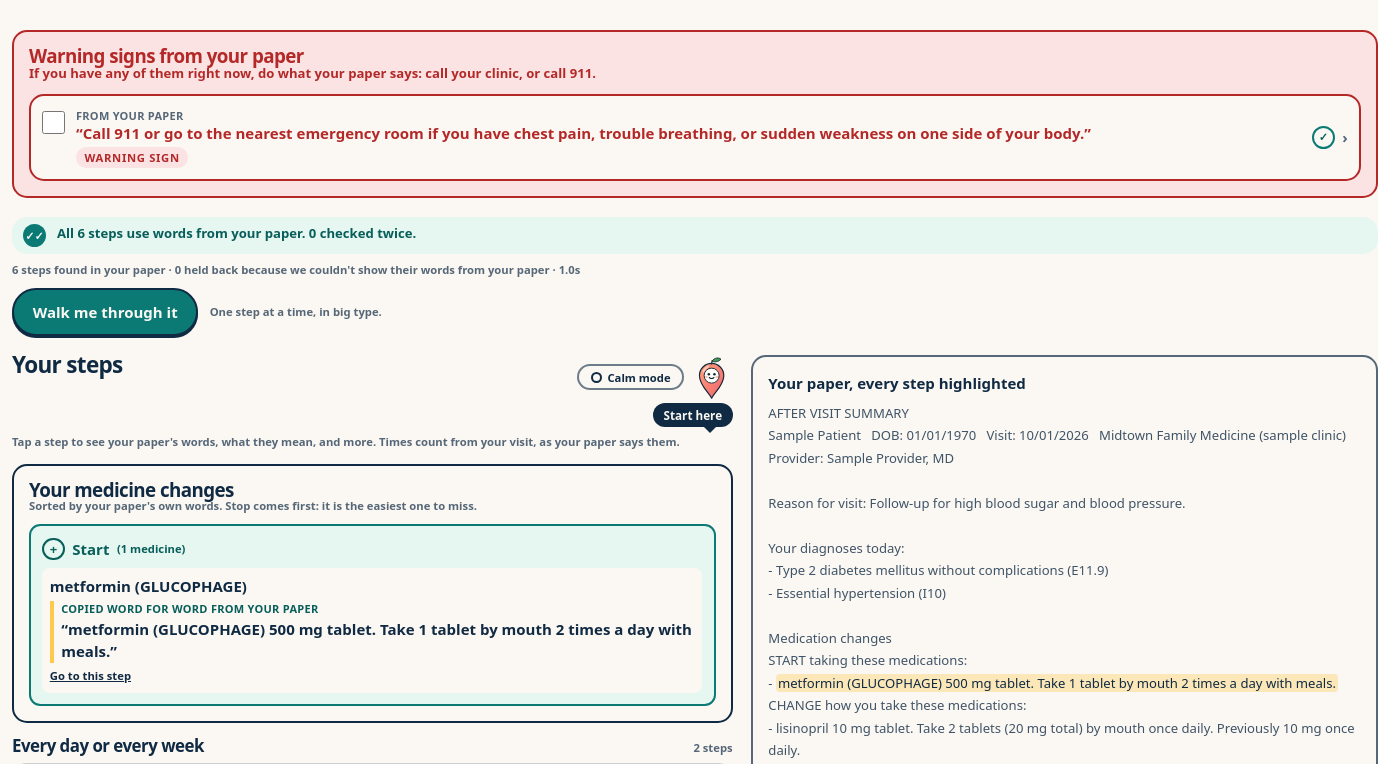
it: Done, Not yet, Ask a person › Ask a person opens the pharmacist question, built from the paper's words, on a medicine step
Click the button "Walk me through it": click(105, 312) [12,288,198,336]
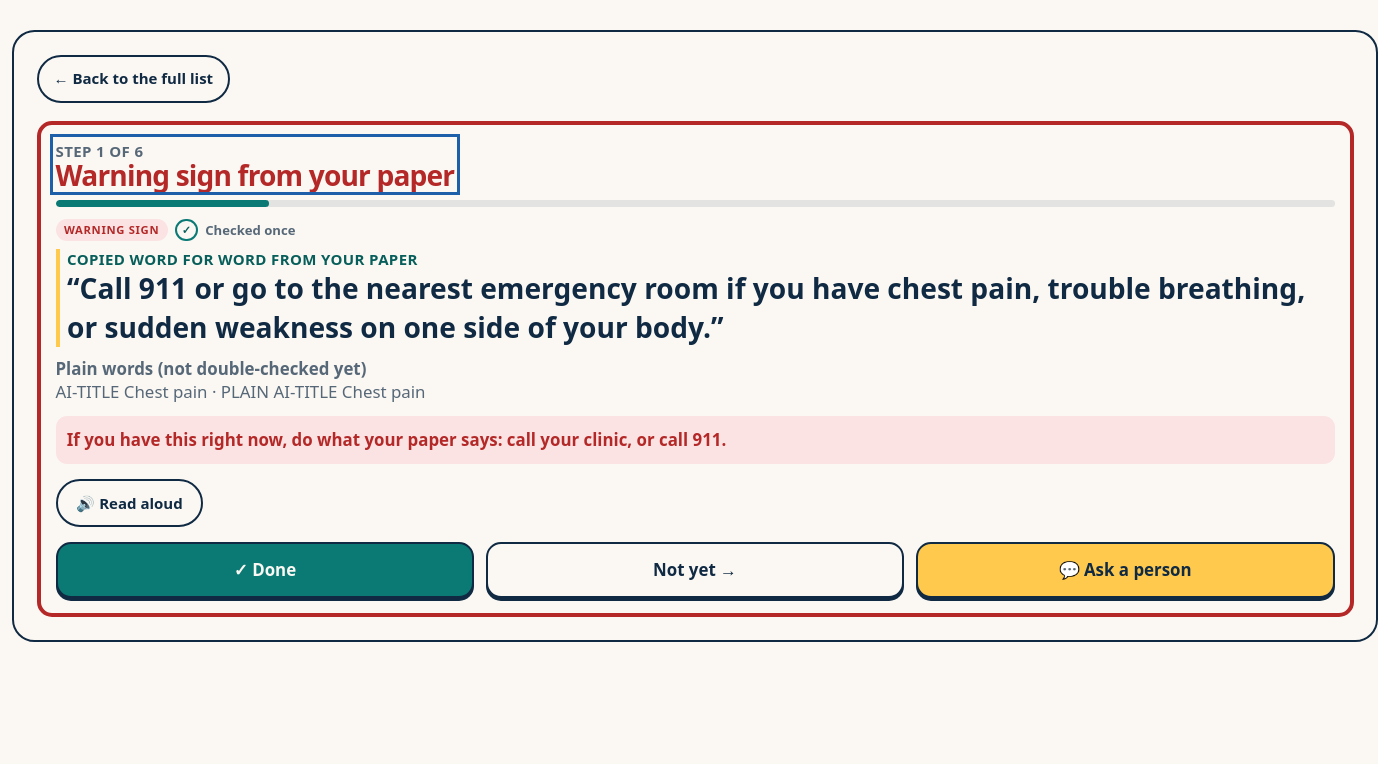
Now the button "Not yet →" is shown
Click the button "Not yet →": click(695, 570) [486,542,904,598]
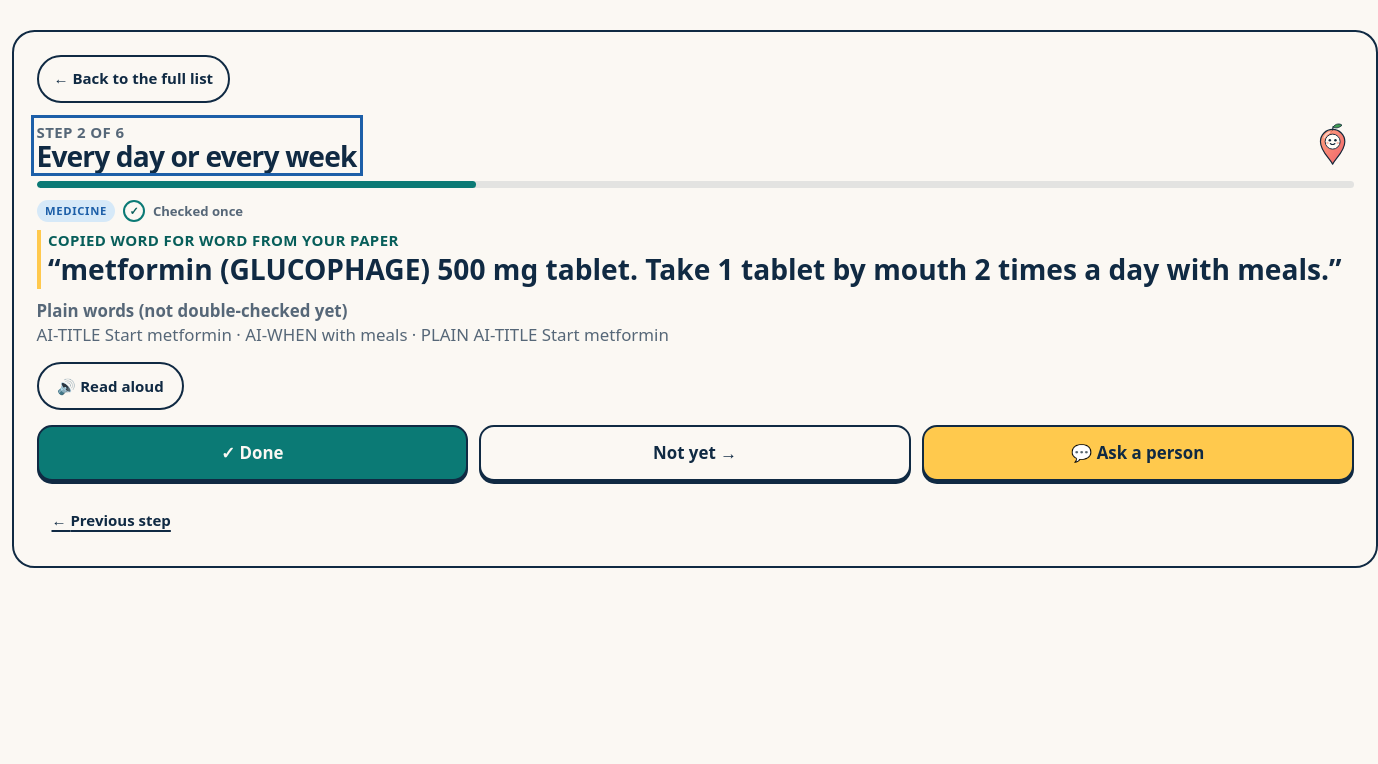
Now the button "💬 Ask a person" is shown
Click the button "💬 Ask a person": click(1138, 453) [922,425,1354,481]
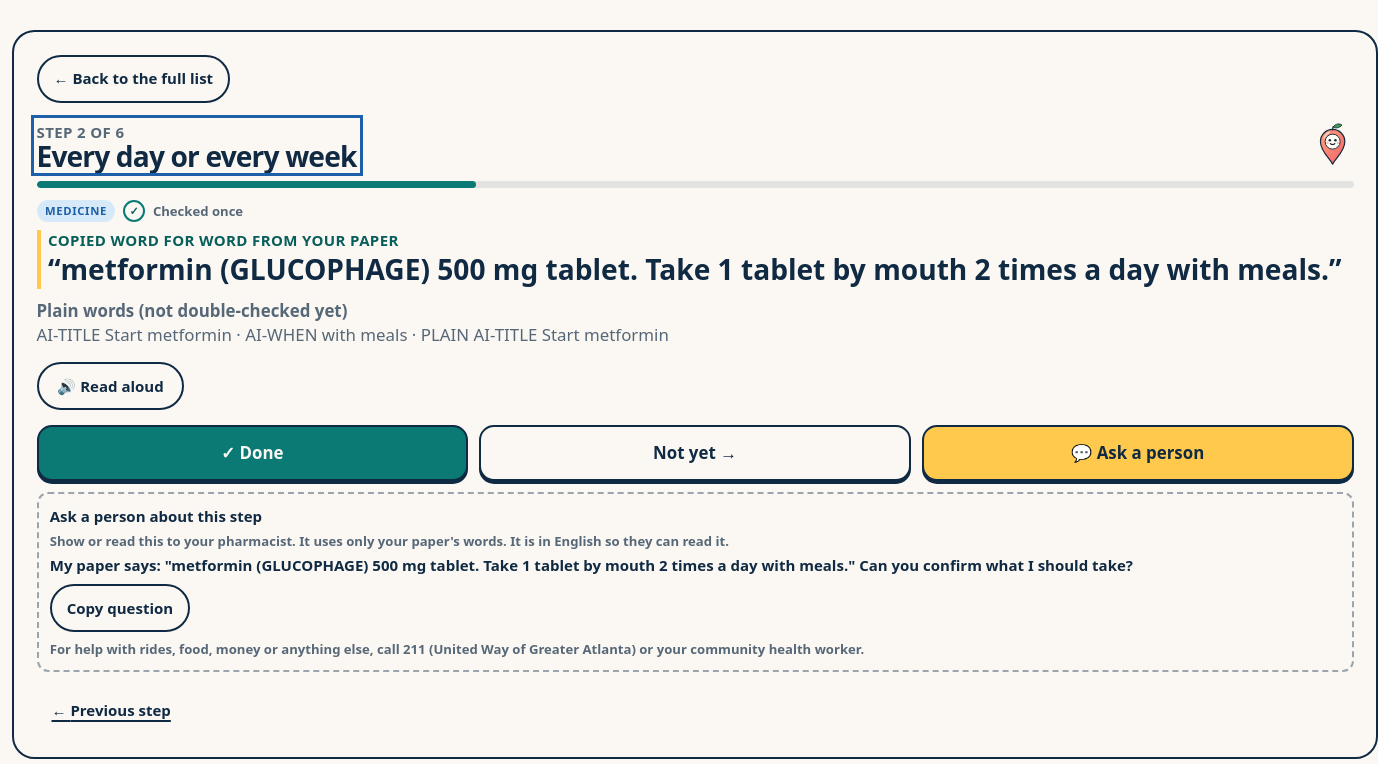
Now the text "metformin (GLUCOPHAGE) 500 mg tablet. Take 1 tablet by mouth 2 times a day with meals." is shown, box [50,555,1133,575]
